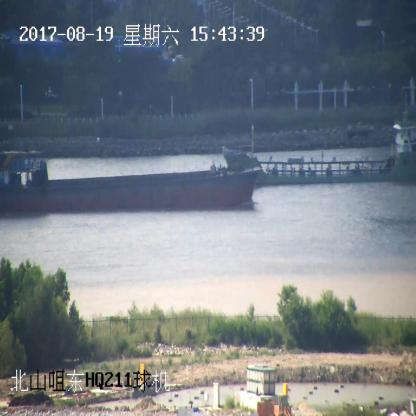Bulk Carrier: (0, 149, 258, 206), (224, 128, 415, 182)
